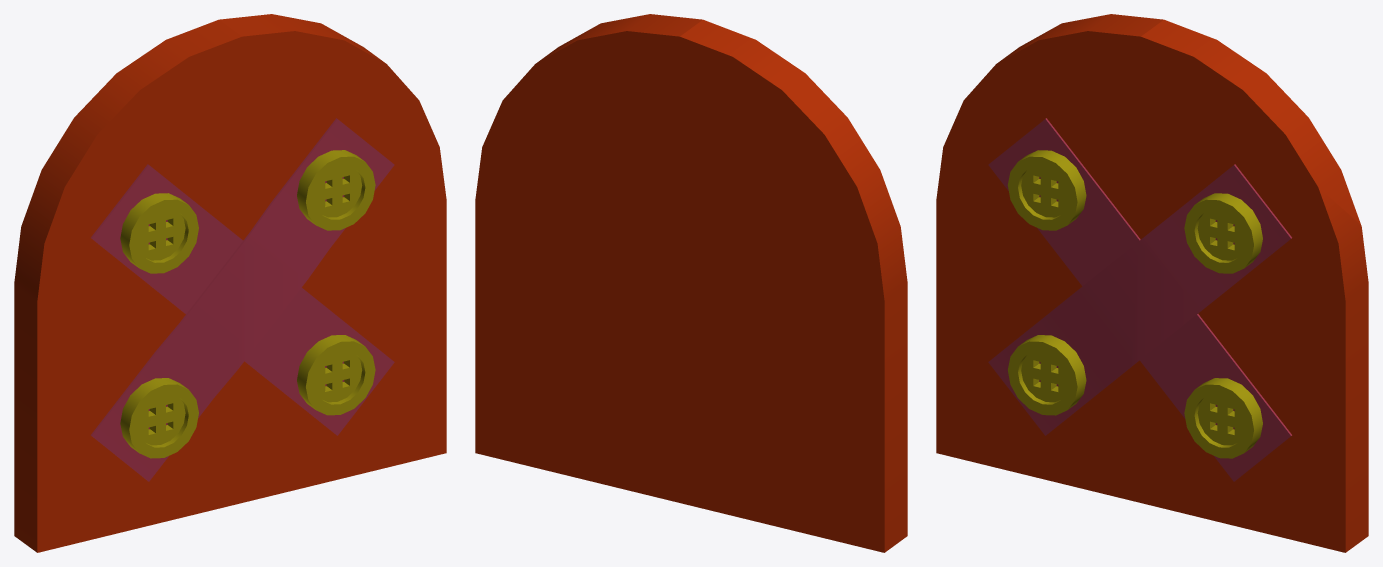
The model's file is door_close.fbx.
The picture shows the model from 3 angles, left to right: view 1: azimuth 30°, elevation 25°; view 2: azimuth 150°, elevation 25°; view 3: azimuth 330°, elevation 25°; orthographic projection.
Parts seen in each view (by area): view 1: door_r, door_]; view 2: door_r, door_]; view 3: door_], door_r.
Part boxes in pixels (x1,y1,x2,y2): door_r: (14, 19, 244, 552); door_]: (219, 14, 446, 502); door_r: (680, 19, 907, 552); door_]: (475, 14, 702, 502); door_]: (1138, 19, 1368, 552); door_r: (936, 14, 1163, 502).
Bounding box in the file's own units: 180 × 196 × 25.4.
